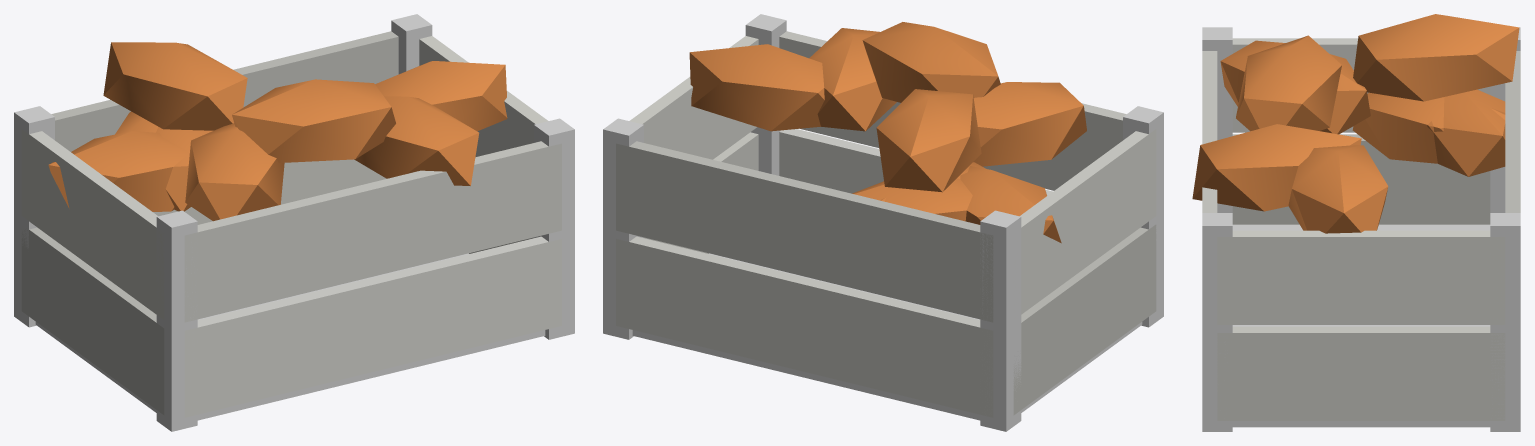
File: Prop_BreadCrate.fbx
The picture shows the model from 3 angles, left to right: view 1: azimuth 30°, elevation 25°; view 2: azimuth 150°, elevation 25°; view 3: azimuth 270°, elevation 25°; orthographic projection.
Visible parts, largest first — view 1: Prop_BreadCrate_LOD0; view 2: Prop_BreadCrate_LOD0; view 3: Prop_BreadCrate_LOD0.
Part boxes in pixels (x1,y1,x2,y2): Prop_BreadCrate_LOD0: (14, 14, 574, 431); Prop_BreadCrate_LOD0: (603, 14, 1163, 431); Prop_BreadCrate_LOD0: (1192, 14, 1520, 431).
Size of what is drawn, in the model's own units: 0.6315 by 0.405 by 0.4329.
